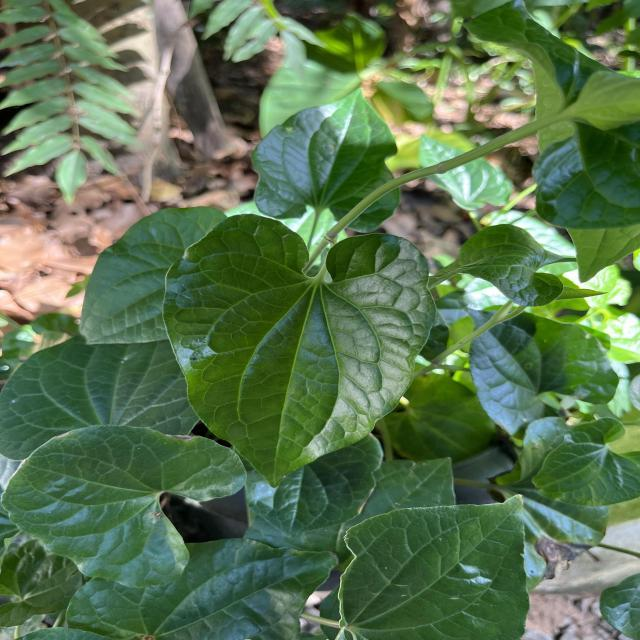Piper longum: (158, 210, 439, 490)
